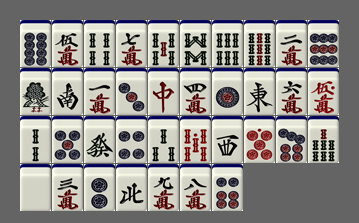0m: (308, 68, 339, 115)
0p: (244, 116, 275, 163)
0s: (180, 116, 211, 163)
1m: (84, 68, 115, 115)
1p: (212, 68, 243, 115)
1s: (20, 68, 51, 115)
1z: (244, 68, 275, 115)
2m: (276, 20, 307, 67)
2p: (84, 164, 115, 211)
2s: (20, 116, 51, 163)
2z: (52, 68, 83, 115)
3m: (52, 164, 83, 211)
3p: (116, 68, 147, 115)
3s: (148, 116, 179, 163)
3z: (212, 116, 243, 163)
4m: (180, 68, 211, 115)
4p: (116, 116, 147, 163)
4s: (84, 20, 115, 67)
4z: (116, 164, 147, 211)
5m: (52, 20, 83, 67)
5p: (52, 116, 83, 163)
5s: (148, 20, 179, 67)
5z: (20, 164, 51, 211)
6m: (276, 68, 307, 115)
6p: (212, 164, 243, 211)
6s: (212, 20, 243, 67)
6z: (84, 116, 115, 163)
7m: (116, 20, 147, 67)
7p: (276, 116, 307, 163)
7s: (308, 116, 339, 163)
7z: (148, 68, 179, 115)
8m: (180, 164, 211, 211)
8p: (20, 20, 51, 67)
8s: (180, 20, 211, 67)
9m: (148, 164, 179, 211)
9p: (308, 20, 339, 67)
9s: (244, 20, 275, 67)
